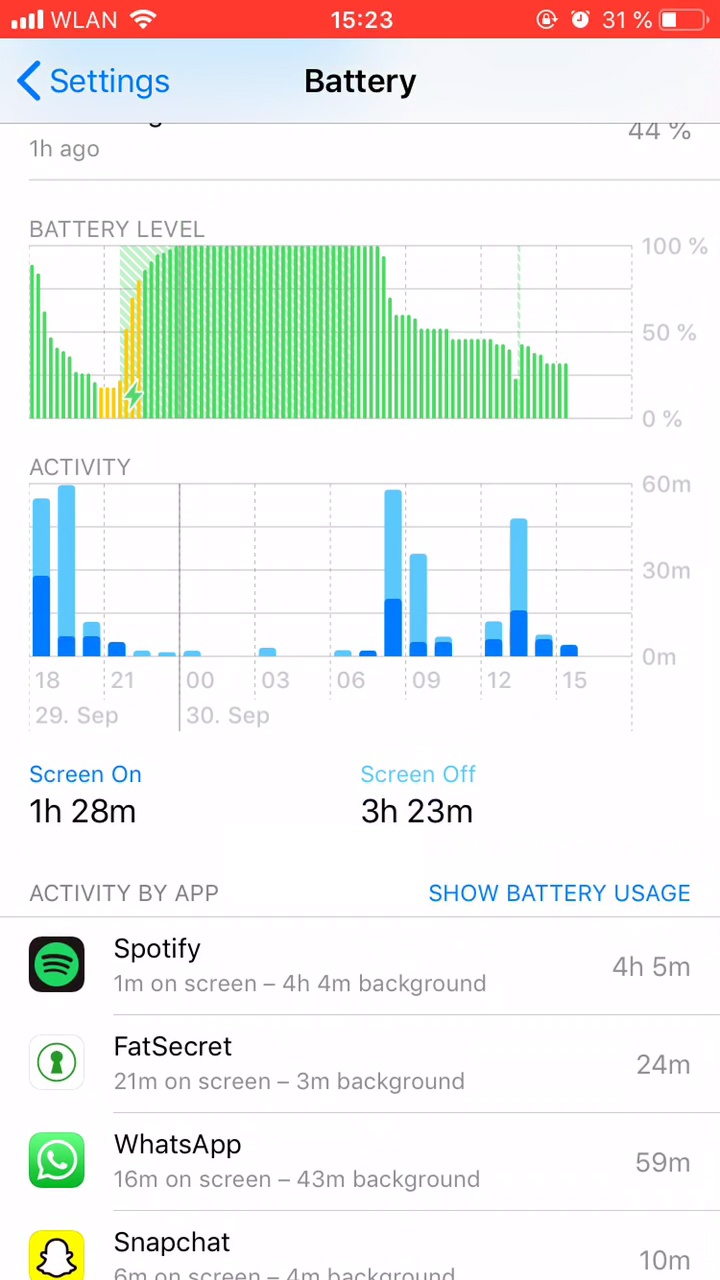app: (28, 923, 700, 1009), (31, 1021, 703, 1107), (24, 1117, 696, 1203)
